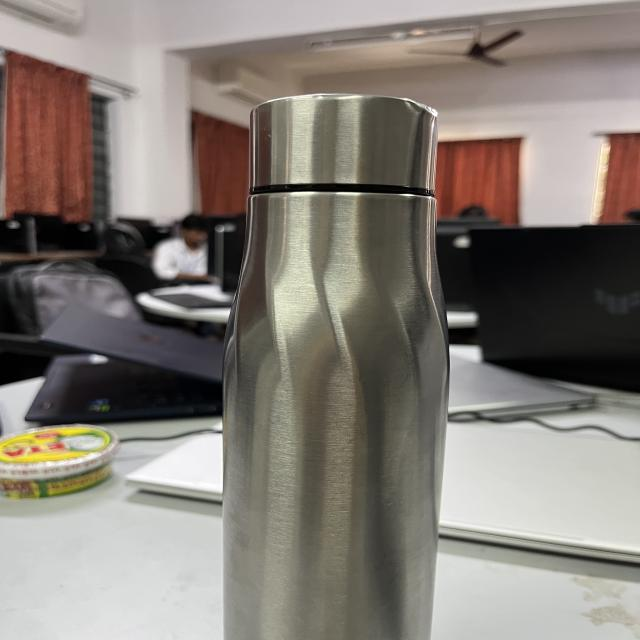L3: (212, 57, 463, 640)
